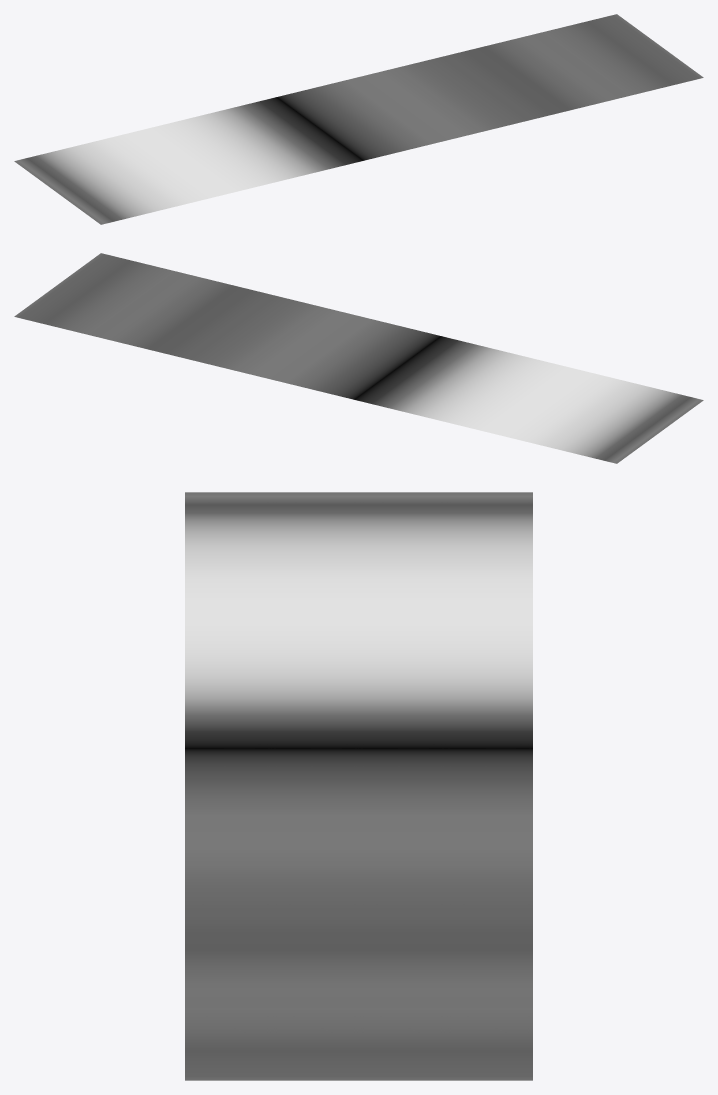
The model's file is bars.glb.
3 renders of one model, top to bottom at view 1: azimuth 30°, elevation 25°; view 2: azimuth 150°, elevation 25°; view 3: azimuth 270°, elevation 25°, orthographic. The views are drawn at different scales.
Parts seen in each view (by area): view 1: bars; view 2: bars; view 3: bars.
Boxes of the visible parts, x1=… form: bars: x1=14, y1=14, x2=703, y2=224; bars: x1=14, y1=253, x2=703, y2=463; bars: x1=185, y1=492, x2=532, y2=1080.
Size of the model in its own units: 4 by 0 by 1.
1 material, 1 textured.
